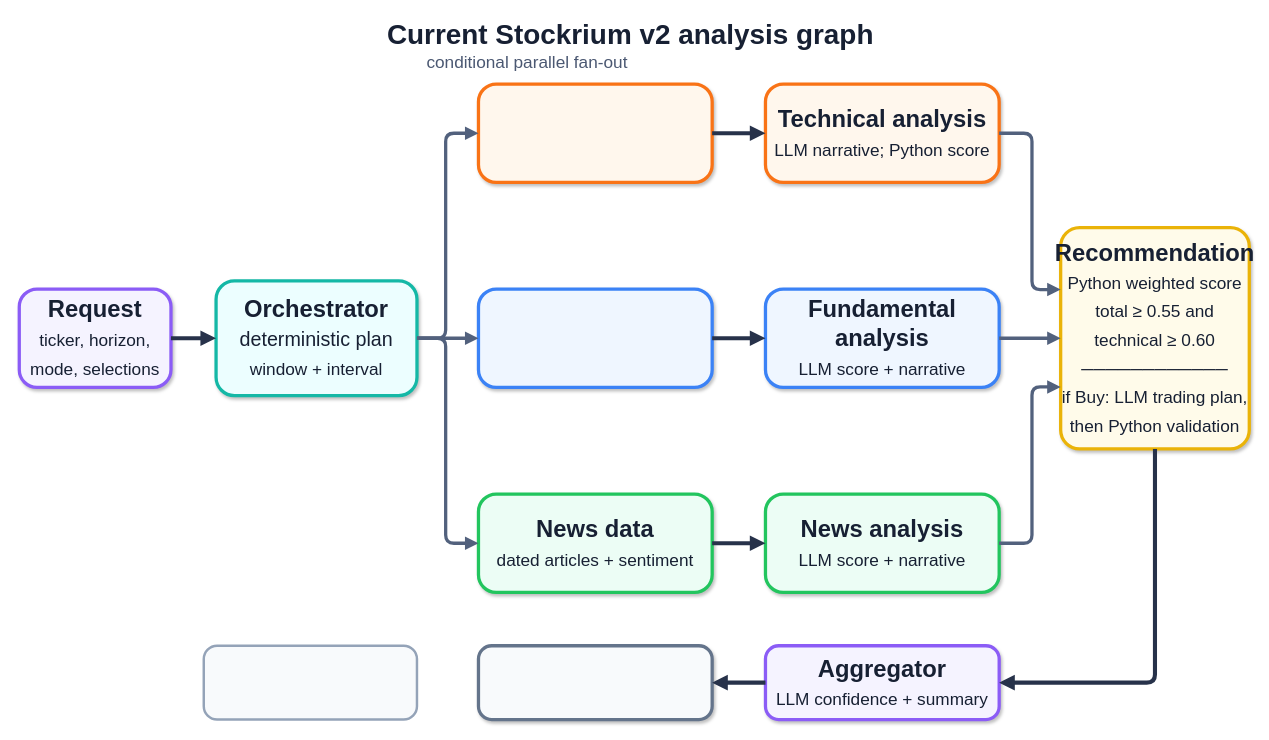
Image size: 1269x740. Some labels were removed from this diagram. The centre of each missing label's shape, as x and y in pixels:
API output Buy/Wait, plan, scores, analysis: the point at 595,683
Fundamental data trends + peer context: the point at 595,339
Manual mode controls branches, indicators, weights: the point at 310,682
Technical data indicators + binary rules: the point at 595,134
